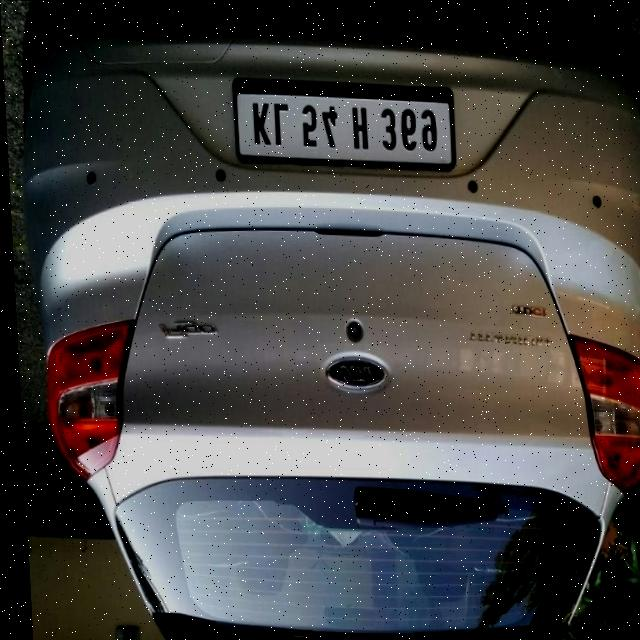plate: (230, 81, 456, 171)
